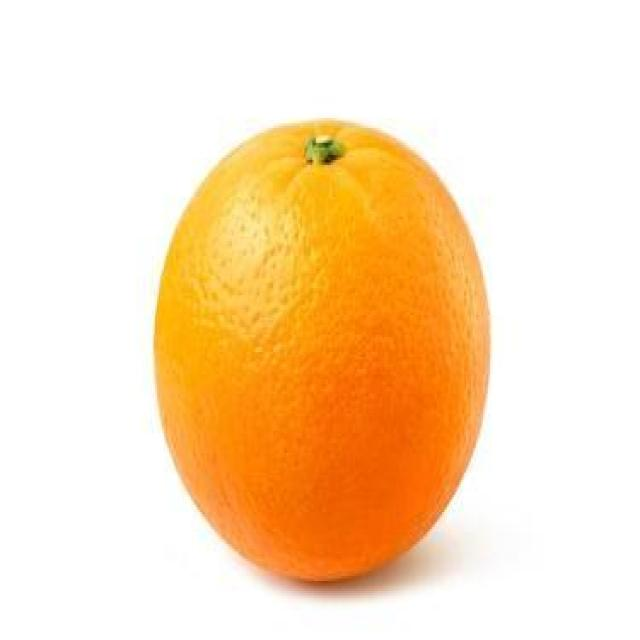orange: (151, 112, 495, 587)
